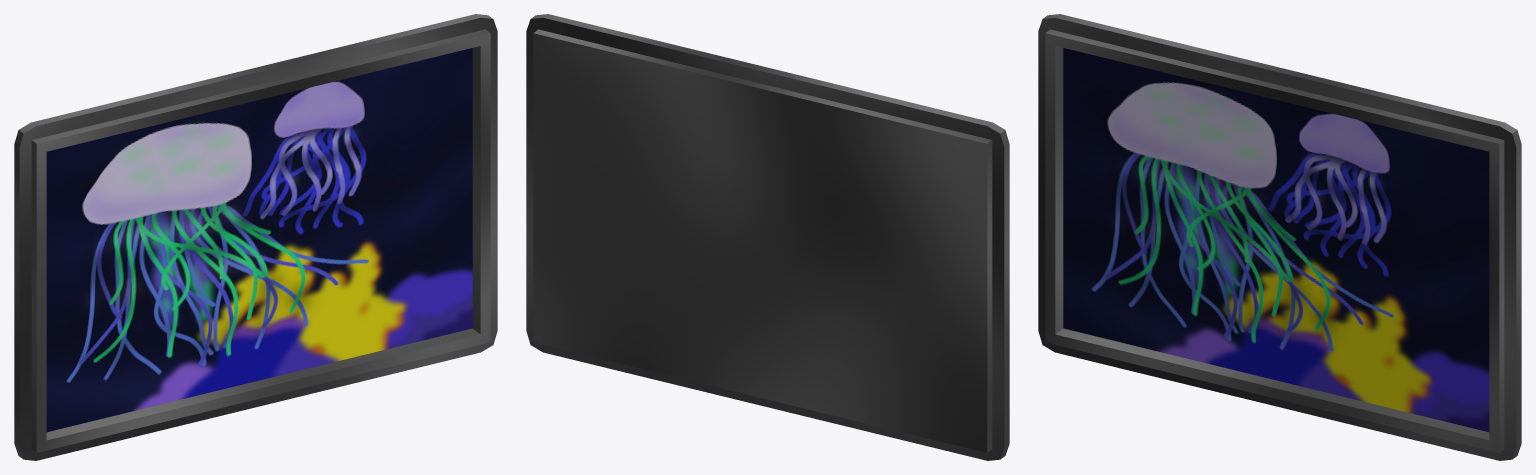
3 views of the same model, side by side, from view 1: azimuth 30°, elevation 25°; view 2: azimuth 150°, elevation 25°; view 3: azimuth 330°, elevation 25° (orthographic).
Parts seen in each view (by area): view 1: Painting; view 2: Painting; view 3: Painting.
Boxes of the visible parts, x1,y1,x2,y2 form: Painting: [14, 14, 497, 460]; Painting: [526, 14, 1009, 460]; Painting: [1038, 14, 1521, 460].
Size of the model in its own units: 49.73 by 33.27 by 2.78.
Materials: 1 (1 with a texture image).
